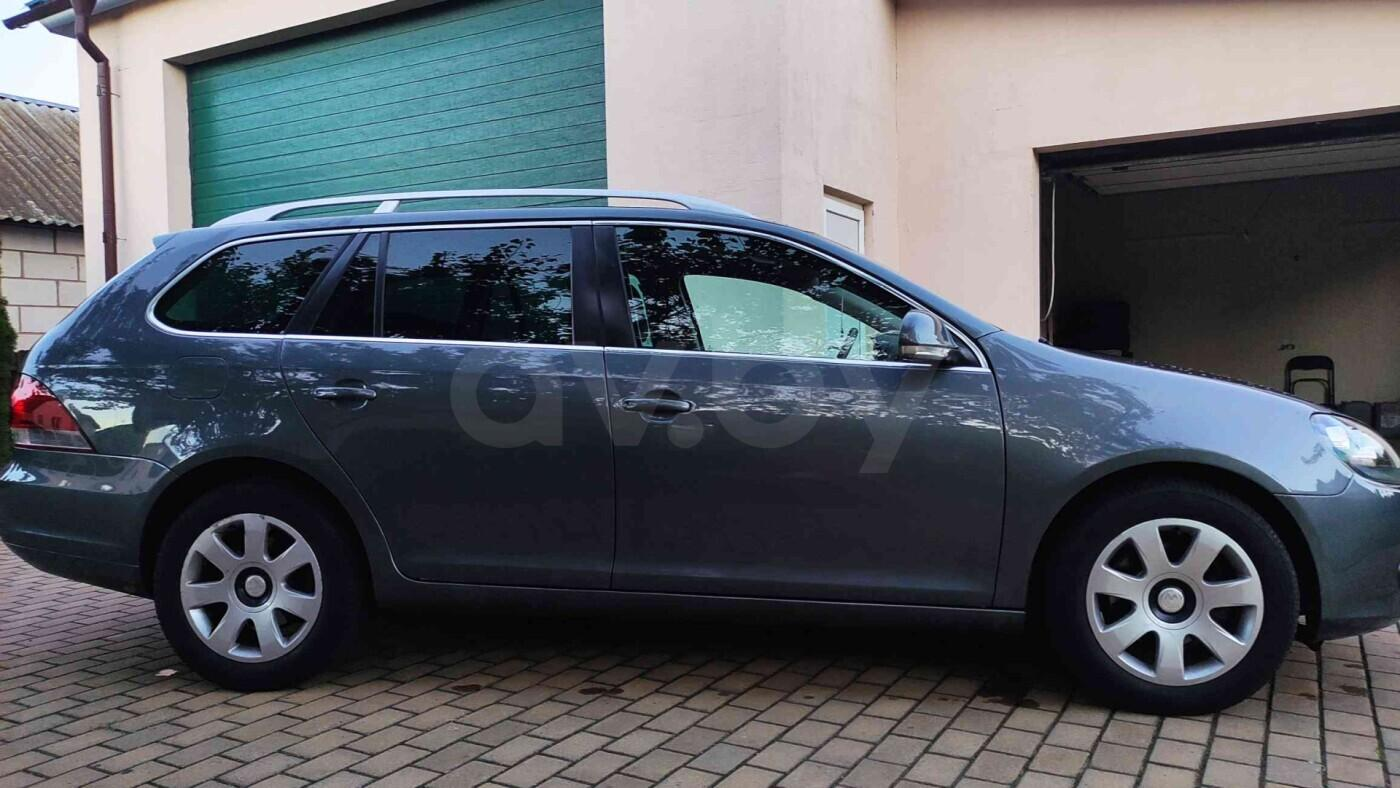Golf_2008-2013: (0, 202, 1397, 728)
